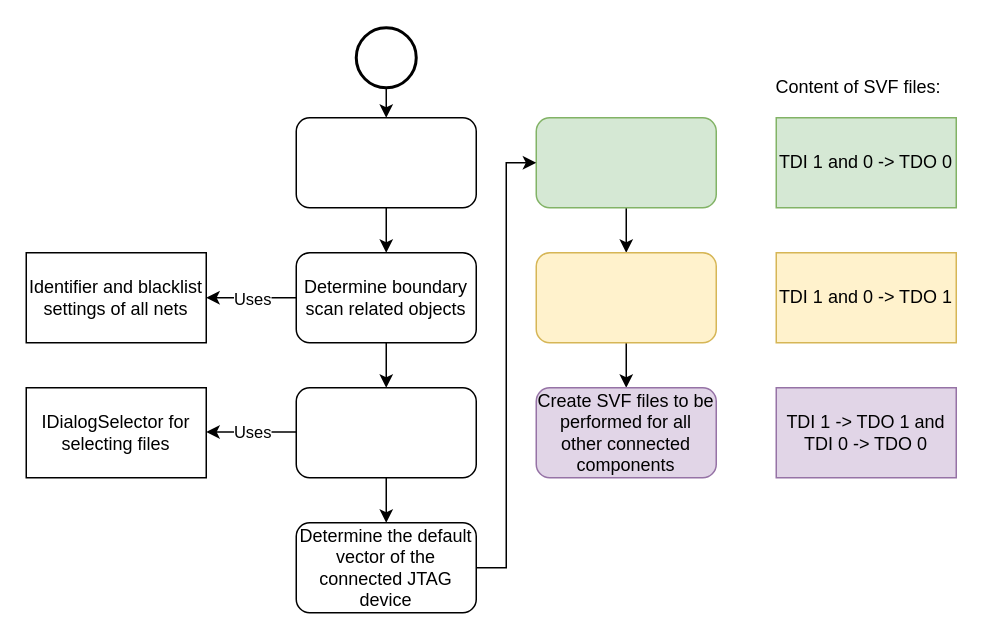
Image size: 983x639. Some labels were removed from this diagram. Each missing label, with the centre of its shape:
"Create SVF files to be performed for pull down resistors" belongs at point 625,162.
"Create SVF files to be performed for pull up resistors" belongs at point 625,297.
"Load a project" belongs at point 385,162.
"Load specific BSDL files for JTAG devices" belongs at point 385,432.
